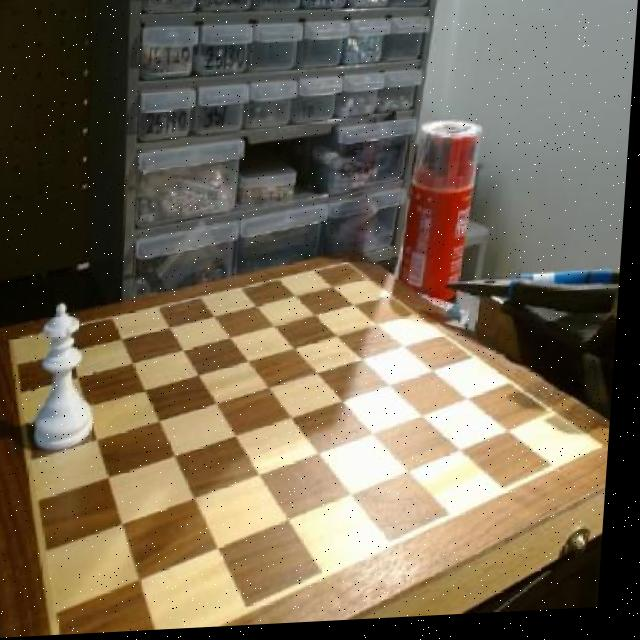white-pawn: (33, 298, 106, 458)
